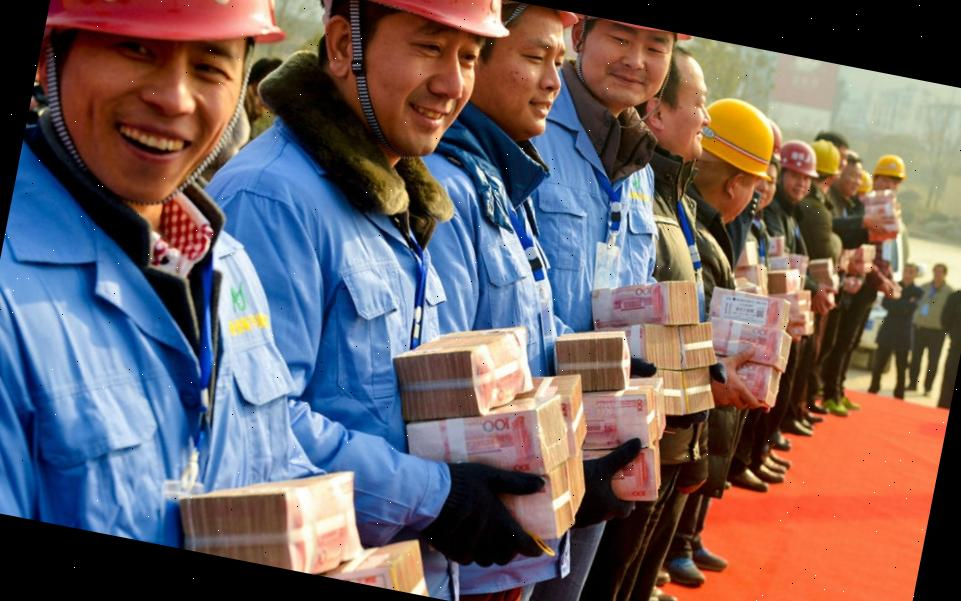helmet: (42, 0, 301, 82), (296, 0, 519, 47), (690, 86, 782, 178), (807, 136, 848, 186), (777, 140, 820, 182), (867, 148, 914, 183)
wear: (0, 185, 304, 557), (186, 116, 455, 491), (409, 132, 580, 364), (515, 90, 669, 334)
